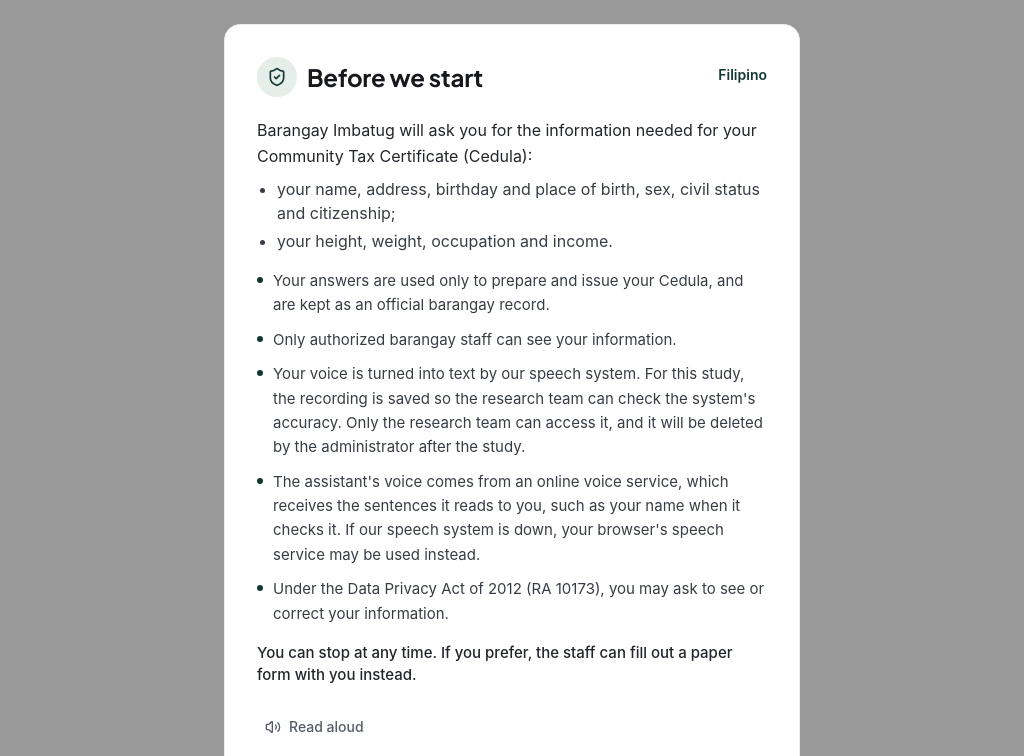
Test: the consent notice (plan 003) › evaluation mode on: the recording line says it is saved for the research team, in both languages
This screenshot has width=1024, height=756.
Click the button "Filipino".
click(743, 75)  # box [718,65,767,85]
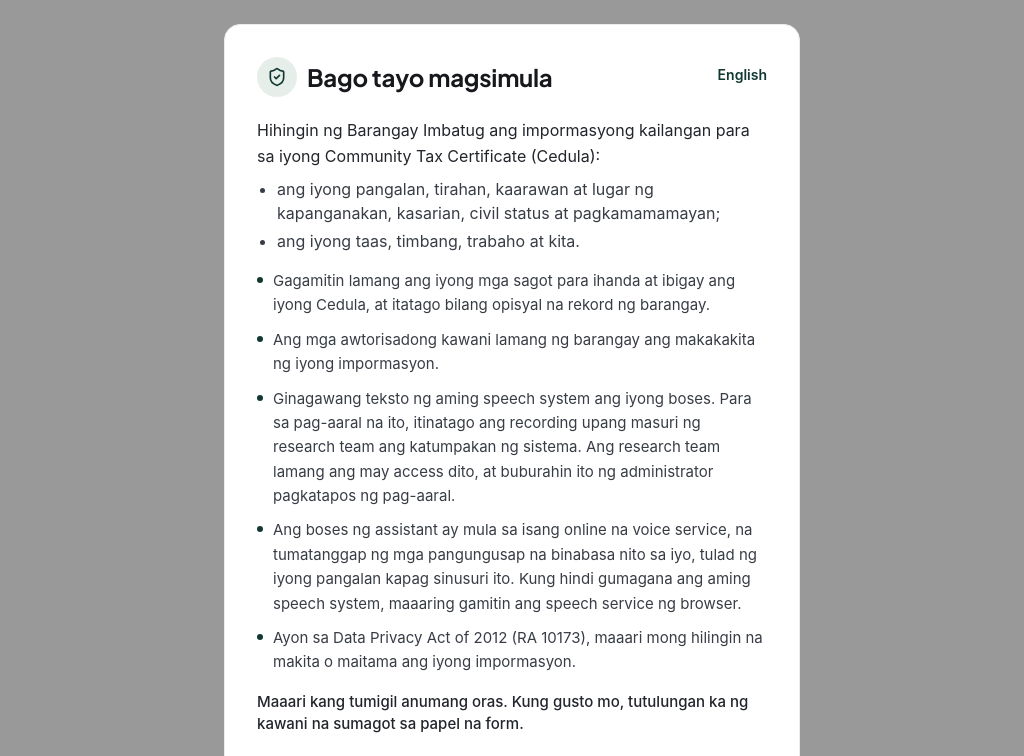
Now the text "Para sa pag-aaral na ito, itinatago ang recording upang masuri ng research team ang katumpakan ng sistema." is shown, box [273,388,752,505]
